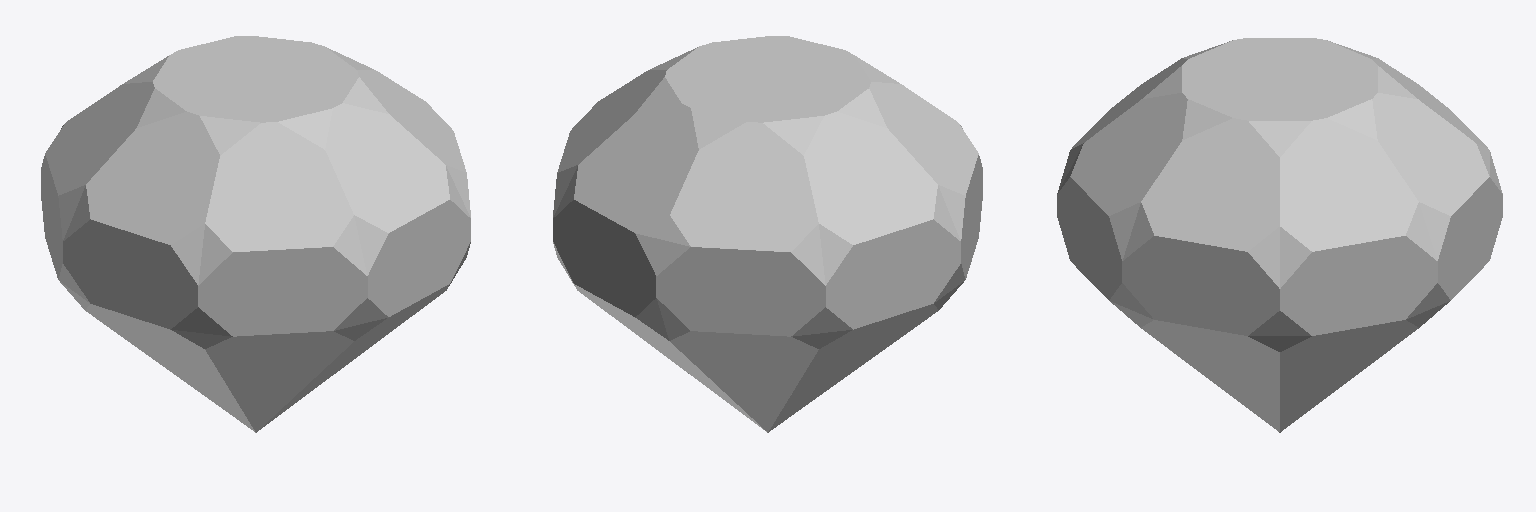
Rendered from diamond.obj.
3 views of the same model, side by side, from view 1: azimuth 30°, elevation 25°; view 2: azimuth 150°, elevation 25°; view 3: azimuth 270°, elevation 25° (orthographic).
Parts seen in each view (by area): view 1: Cylinder_Cylinder.001; view 2: Cylinder_Cylinder.001; view 3: Cylinder_Cylinder.001.
Boxes of the visible parts, box(x1,y1,x2,y2) form: Cylinder_Cylinder.001: box(41, 36, 470, 432); Cylinder_Cylinder.001: box(553, 36, 982, 432); Cylinder_Cylinder.001: box(1057, 38, 1502, 432).
Size of the model in its own units: 2 by 1.75 by 2.